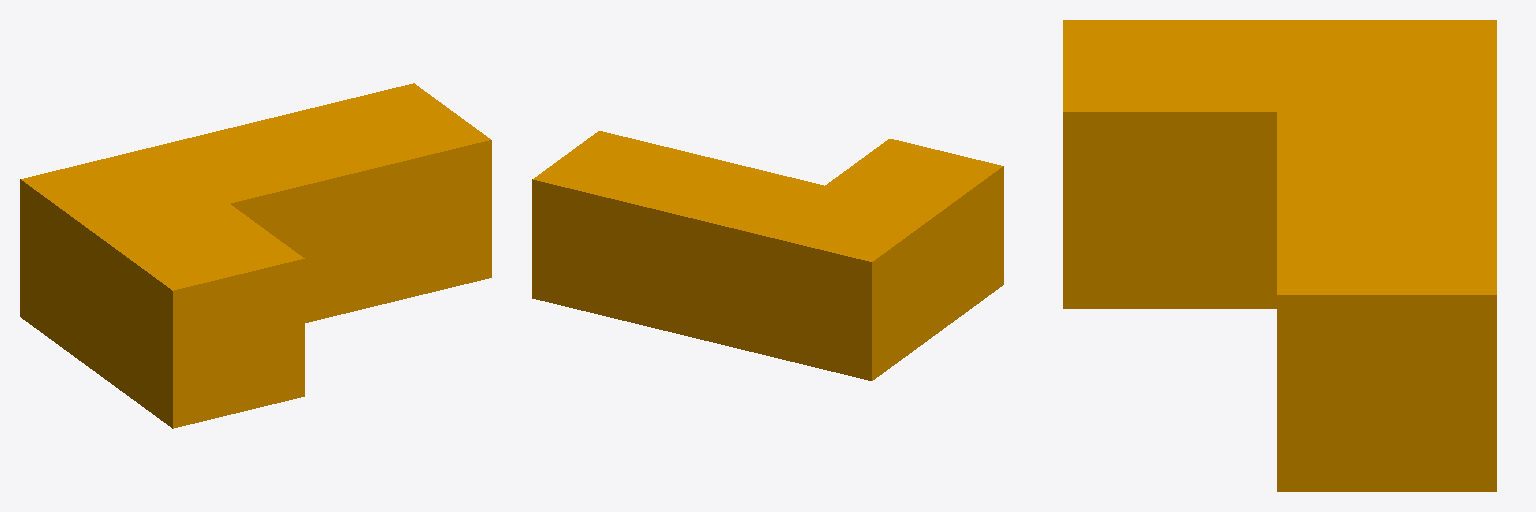
The robot description file, URDF, robot "2_3L_1":
<robot name="2_3L_1">
  <link name="link">
    <visual>
      <geometry>
        <mesh filename="2_3L_1.obj" scale="1 1 1"/>
      </geometry>
    </visual>
    <collision>
      <geometry>
        <mesh filename="2_3L_1.obj" scale="1 1 1"/>
      </geometry>
    </collision>
    <inertial>
      <mass value="1"/>
      <inertia ixx="1" iyy="1" izz="1" ixy="0" ixz="0" iyz="0"/>
      <origin xyz="0 0 0" rpy="0 0 0"/>
    </inertial>
  </link>
</robot>

--- Render facts (derived) ---
3 views of the same robot in one strip: view 1: azimuth 30°, elevation 25°; view 2: azimuth 150°, elevation 25°; view 3: azimuth 270°, elevation 25° (orthographic).
Model 2_3L_1 with 1 links and 0 joints (none), rooted at link, posed all joints at 0.
Links seen in each view (by area): view 1: link; view 2: link; view 3: link.
Link boxes in pixels (bbox=[...]): link: bbox=[20, 83, 491, 428]; link: bbox=[532, 131, 1003, 380]; link: bbox=[1063, 20, 1496, 491].
Size in the robot's own frame: 0.1767 by 0.1184 by 0.0592 metres.
1 mesh visuals loaded from 1 distinct referenced files (1 OBJ).